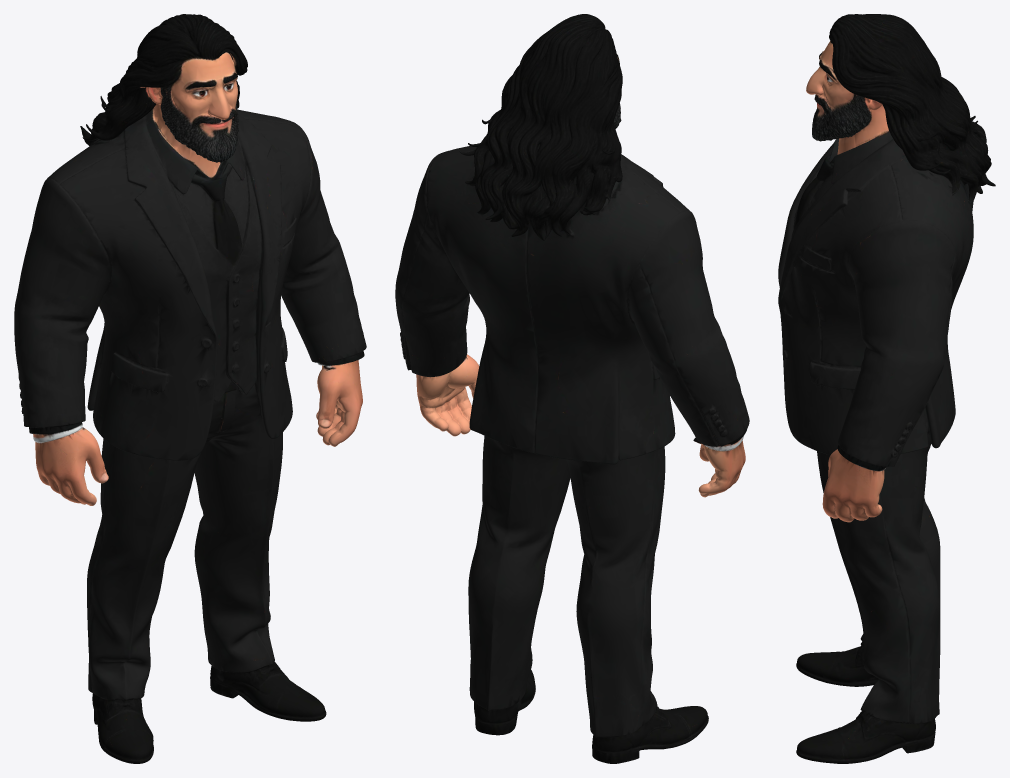
File: father.glb
3 renders of one model, left to right at view 1: azimuth 30°, elevation 25°; view 2: azimuth 150°, elevation 25°; view 3: azimuth 270°, elevation 25°, orthographic.
Size of the model in its own units: 0.9532 by 1.9 by 0.5361.
1 material, 1 textured.
